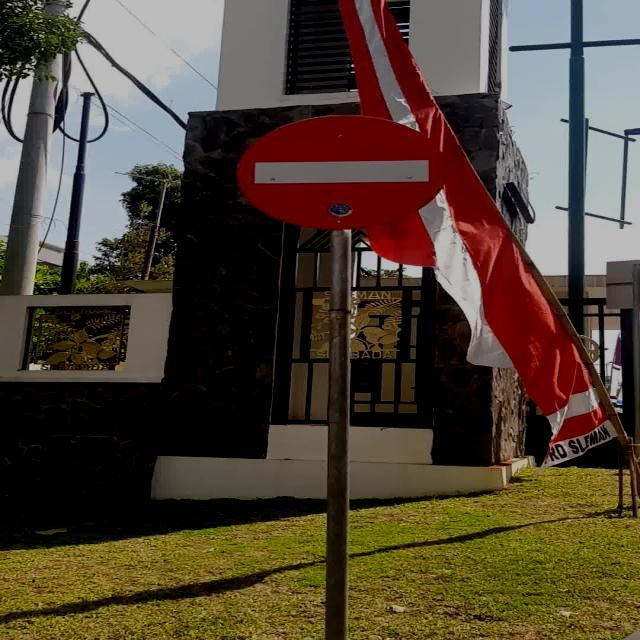Dilarang Masuk: (236, 114, 446, 230)
